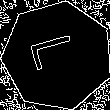L_E: (29, 34, 86, 78)
